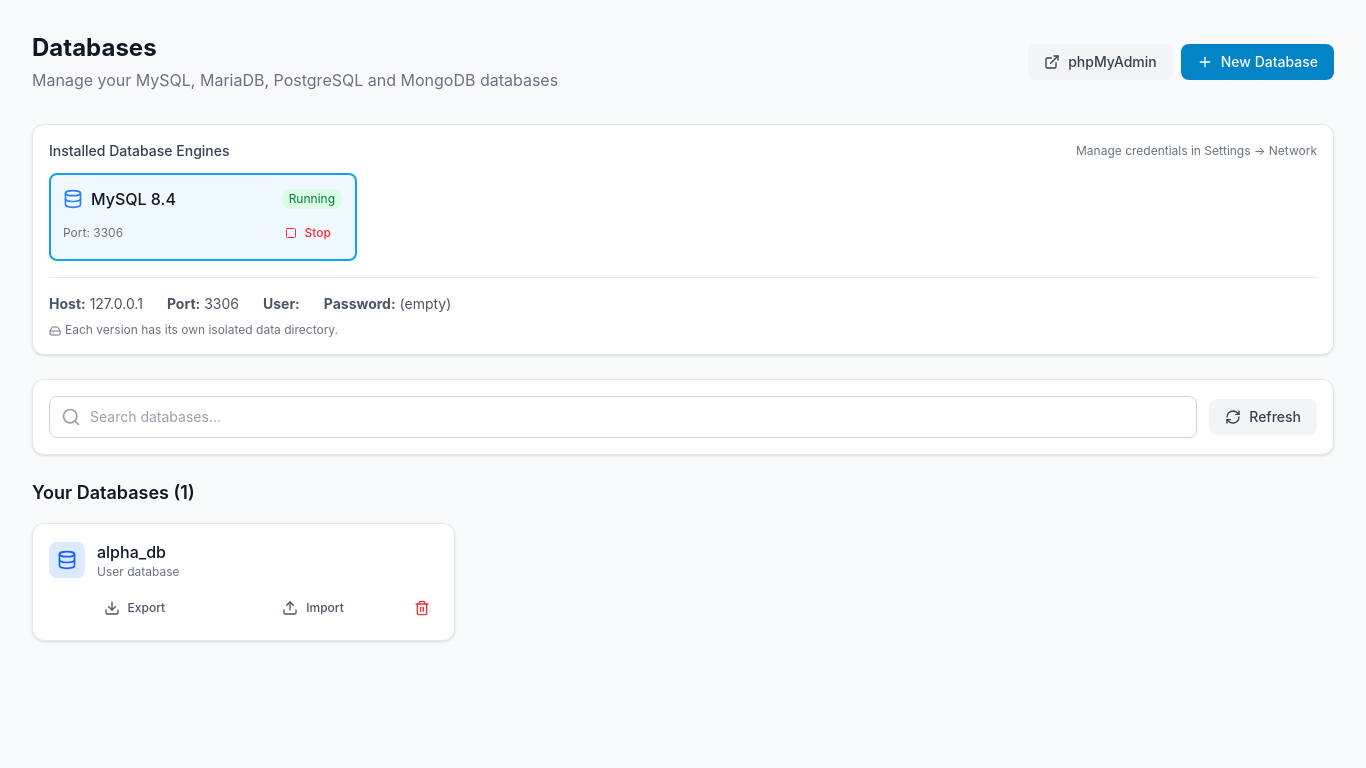
Test case: Databases › refreshes the selected database list from the manual refresh button
Expected: the text "alpha_db" is shown, [97,542,166,562]
Click the button "Refresh".
click(1263, 417)  # box [1209,399,1317,435]
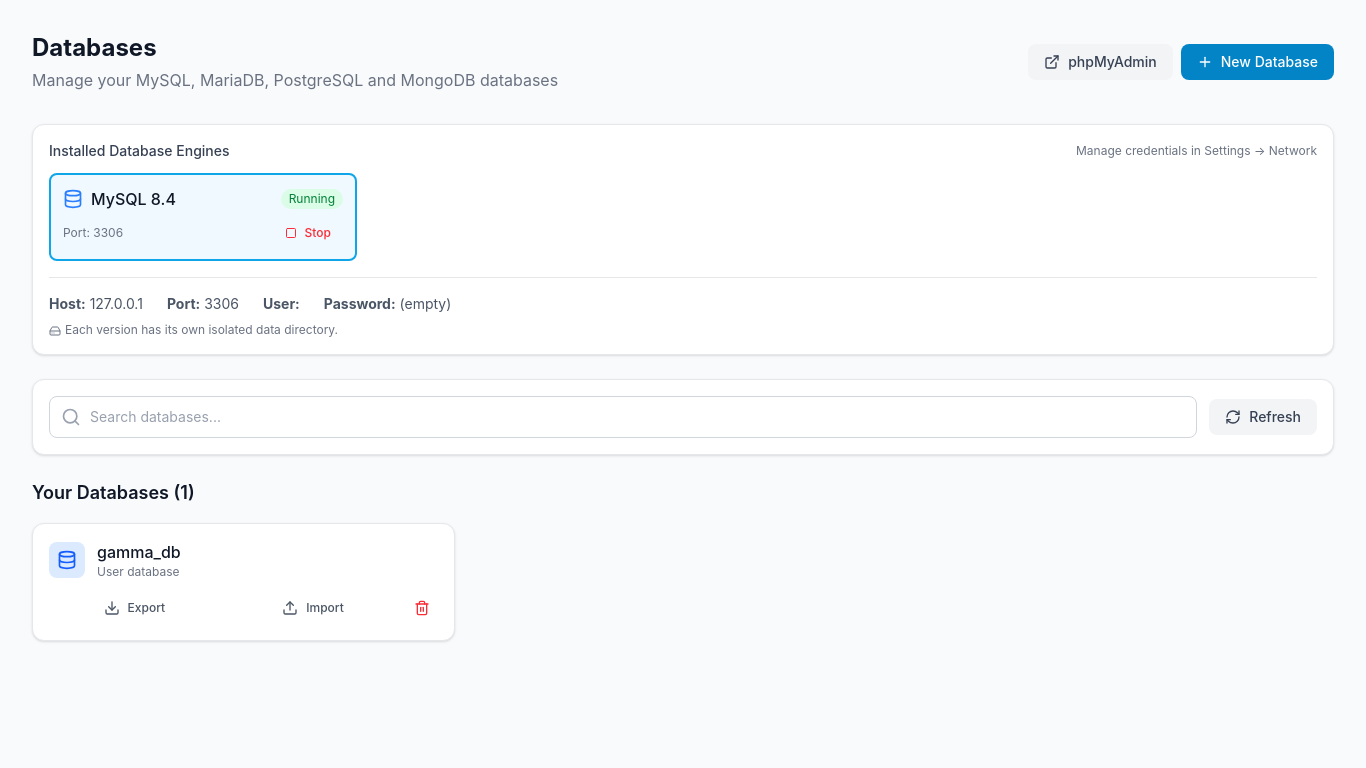
Now the text "gamma_db" is shown, box [97,540,181,564]
Now the text "alpha_db" is gone
